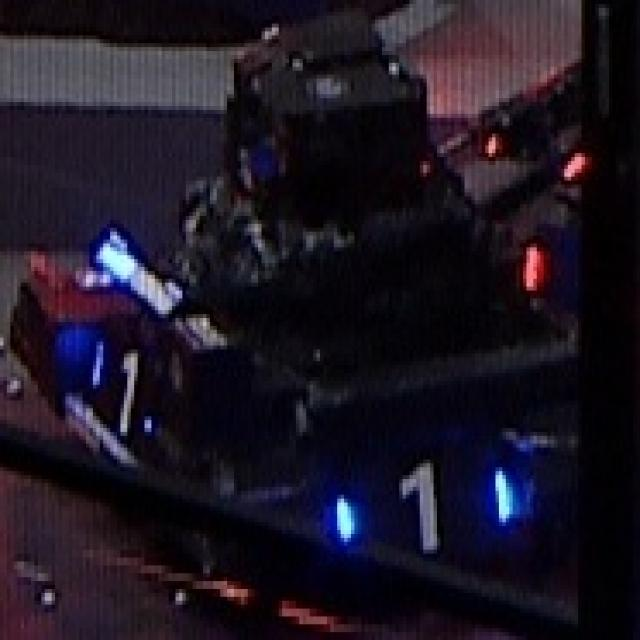B1: (318, 448, 504, 562), (74, 328, 167, 438)
